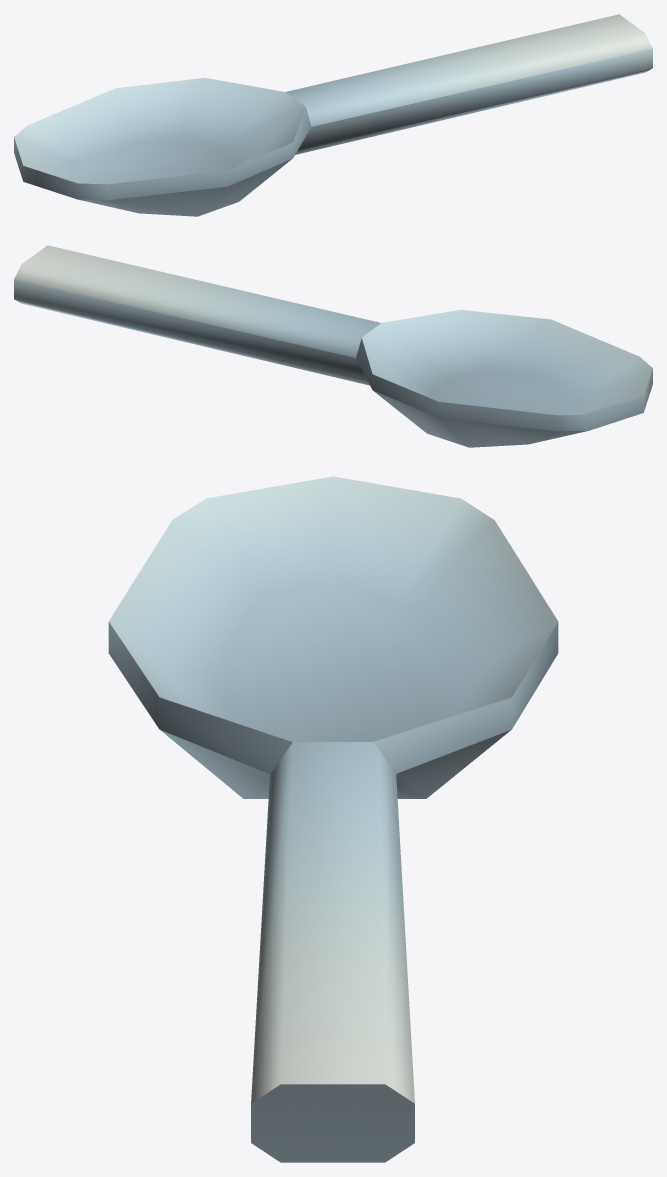
The model's file is spoon_cuttlery_silver.fbx.
3 renders of one model, top to bottom at view 1: azimuth 30°, elevation 25°; view 2: azimuth 150°, elevation 25°; view 3: azimuth 270°, elevation 25°, orthographic. The views are drawn at different scales.
Parts seen in each view (by area): view 1: spoon_cuttlery_silver; view 2: spoon_cuttlery_silver; view 3: spoon_cuttlery_silver.
Boxes of the visible parts, <box> form: spoon_cuttlery_silver: <box>14,14,652,216</box>; spoon_cuttlery_silver: <box>14,245,652,447</box>; spoon_cuttlery_silver: <box>108,476,558,1162</box>.
Bounding box in the file's own units: 36.83 × 3.88 × 11.77.
